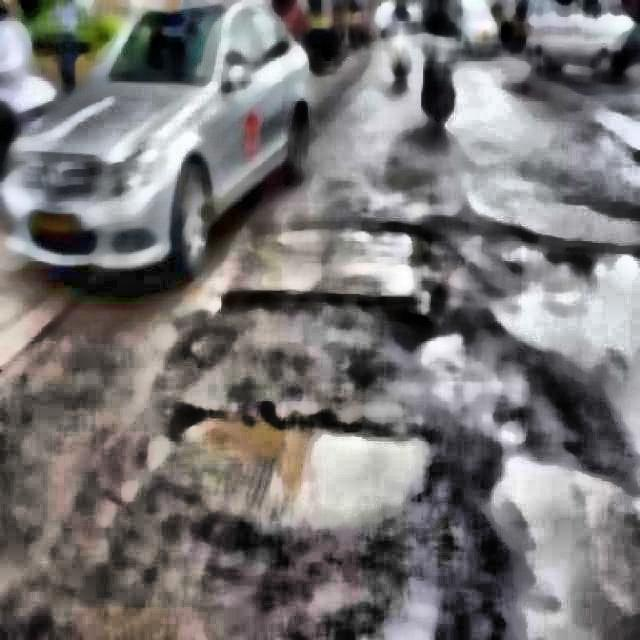buraco: (187, 391, 430, 544), (492, 426, 640, 640)
